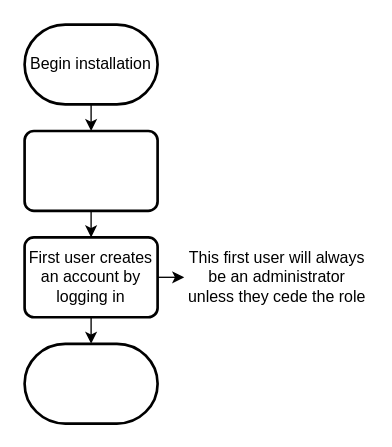
Some shapes in this 392 by 447 pixel diagram are drawn without their labels. The shapes that lost their labels are listed below. From the top down, each one's box as (x1, y1, x2, y2) in pixels, then its label:
(23, 129, 158, 211): System in setup mode
(23, 342, 158, 424): Done
